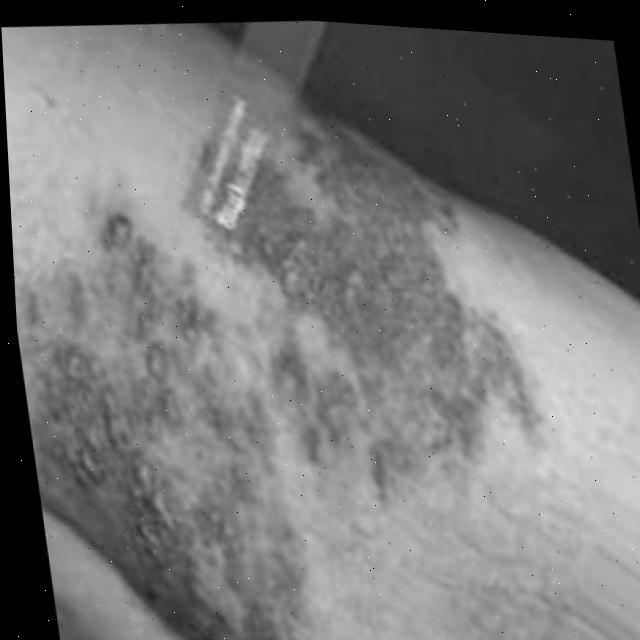Shingles: (6, 107, 554, 640)
